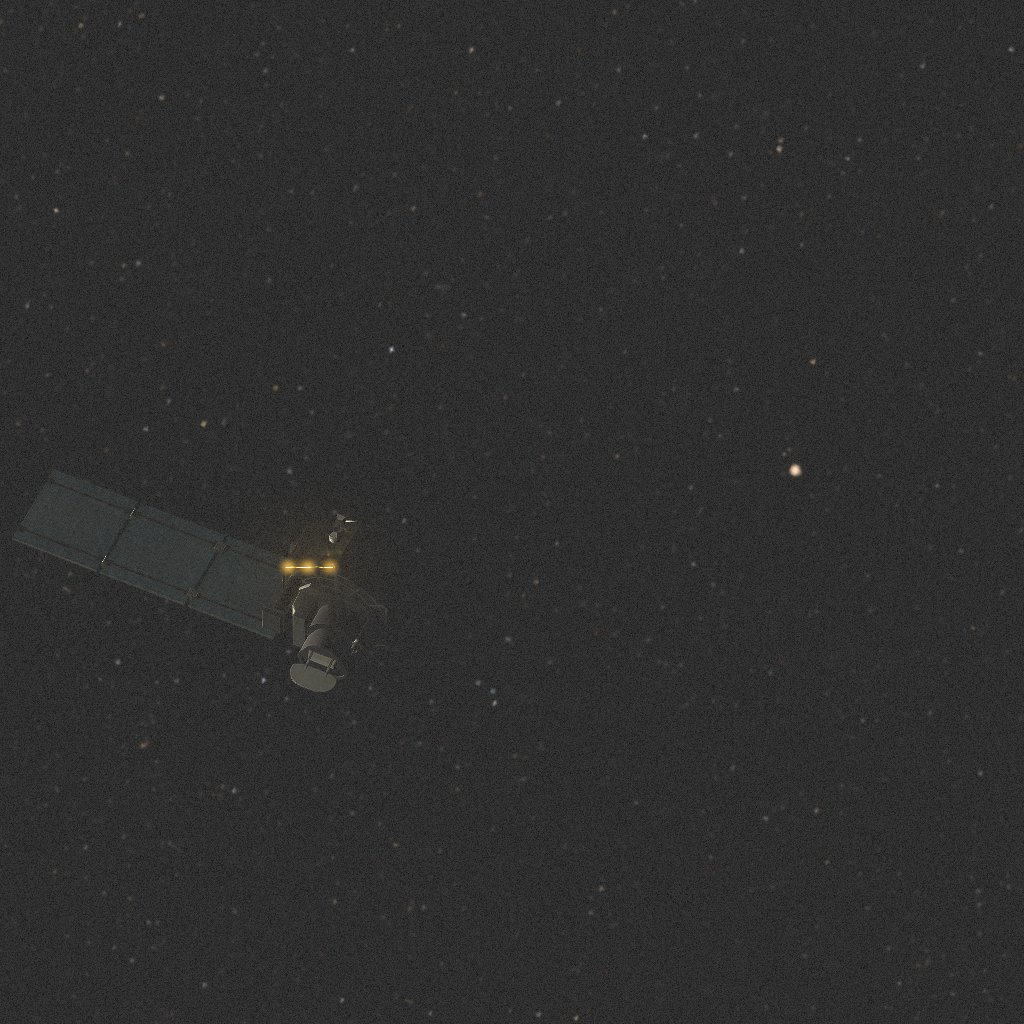earth_observation_sat_1: (12, 470, 414, 693)
